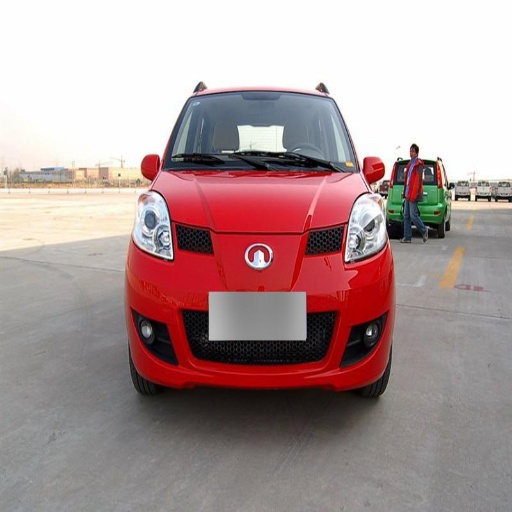front_bumper: (131, 223, 388, 390)
front_right_light: (134, 194, 175, 261)
hood: (156, 171, 365, 232)
